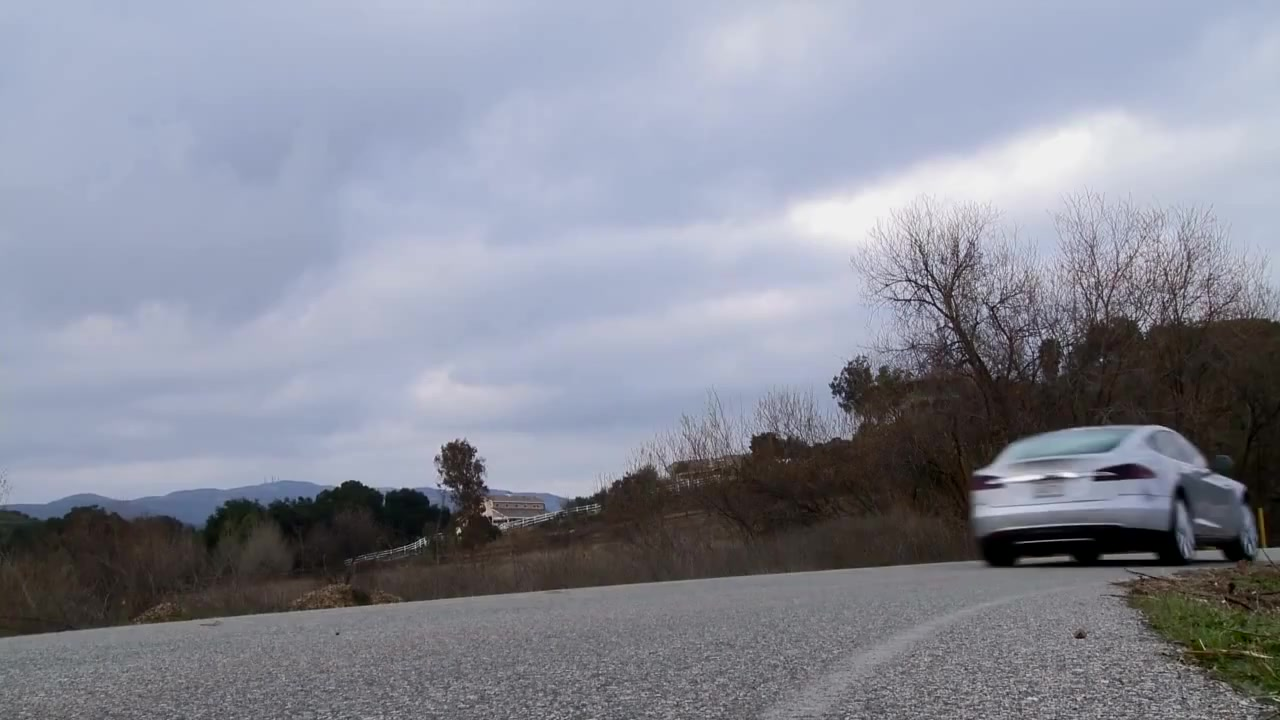car: (965, 423, 1263, 569)
